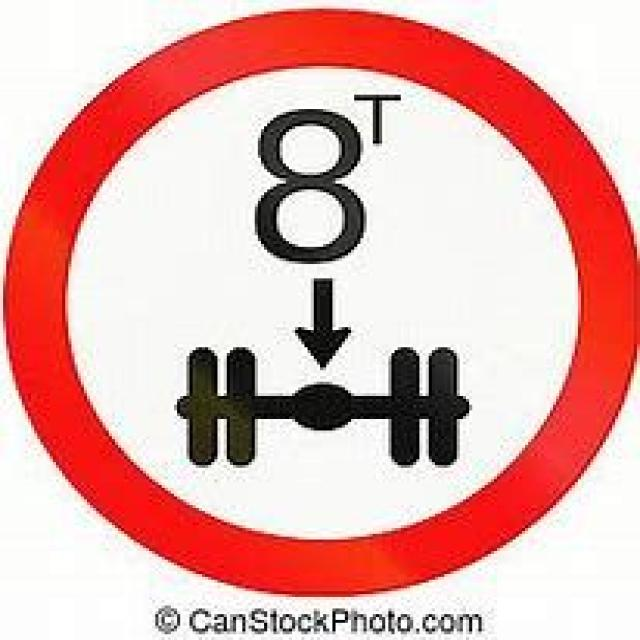AXLE_LOAD_LIMIT: (0, 13, 640, 606)
